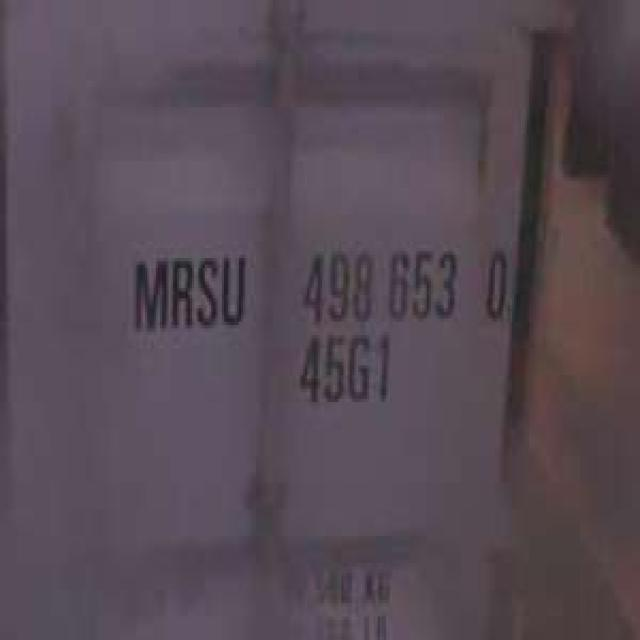dv: (478, 235, 512, 322)
owner: (126, 242, 252, 338)
serial: (294, 234, 461, 328)
size: (292, 325, 395, 412)
